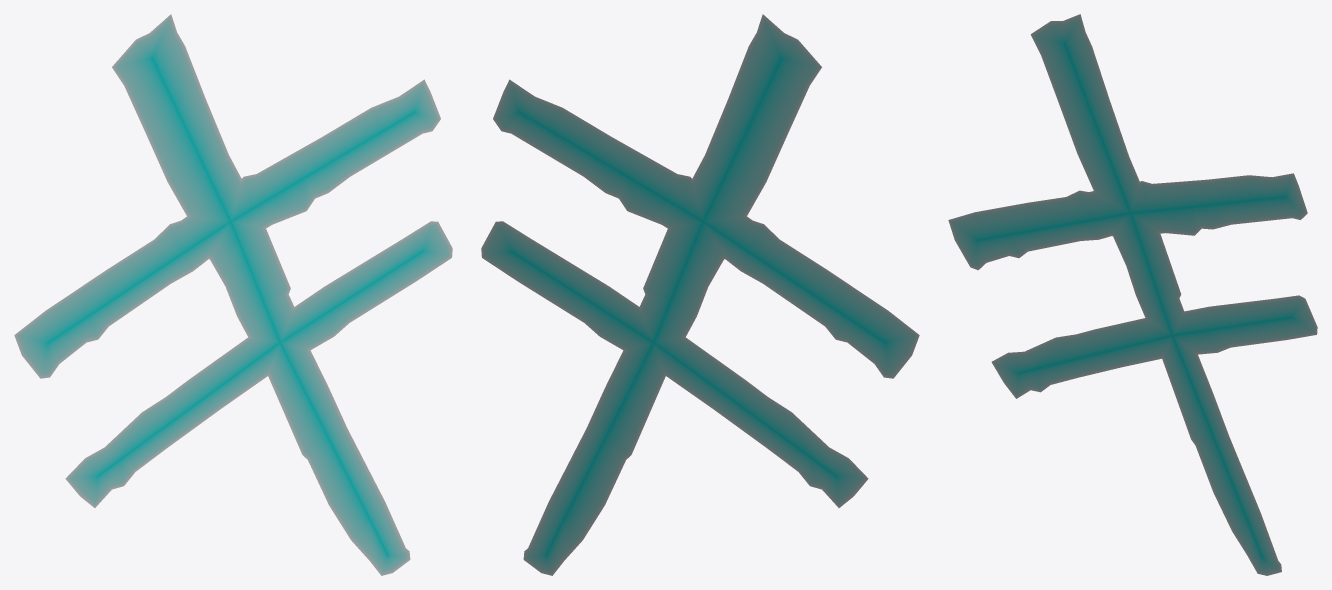
The model's file is SM_EFF_Text_D27NJ3_02.glb.
The picture shows the model from 3 angles, left to right: view 1: azimuth 30°, elevation 25°; view 2: azimuth 150°, elevation 25°; view 3: azimuth 330°, elevation 25°; orthographic projection. The views are drawn at different scales.
Parts seen in each view (by area): view 1: SM_EFF_Text_D27NJ3_02; view 2: SM_EFF_Text_D27NJ3_02; view 3: SM_EFF_Text_D27NJ3_02.
Part boxes in pixels (x1,y1,x2,y2): SM_EFF_Text_D27NJ3_02: [14, 14, 452, 575]; SM_EFF_Text_D27NJ3_02: [481, 14, 919, 575]; SM_EFF_Text_D27NJ3_02: [948, 14, 1317, 575].
Bounding box in the file's own units: 1.49 × 1.99 × 1.22e-16.
